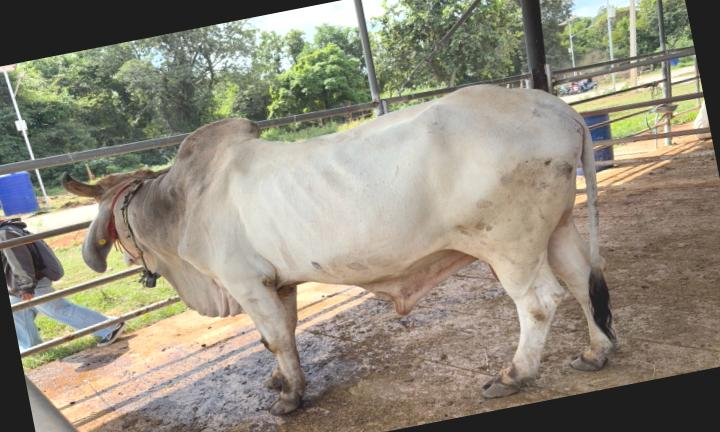Brahman: (62, 84, 619, 414)
